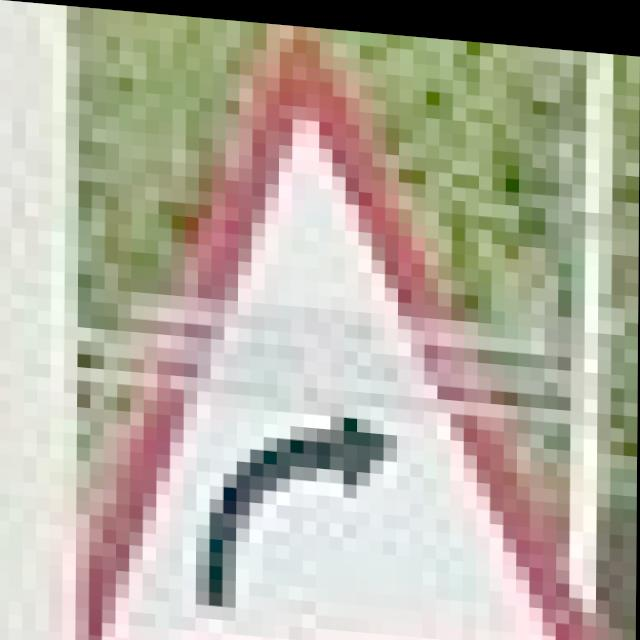RIGHT_HAND_CURVE: (62, 5, 640, 640)
